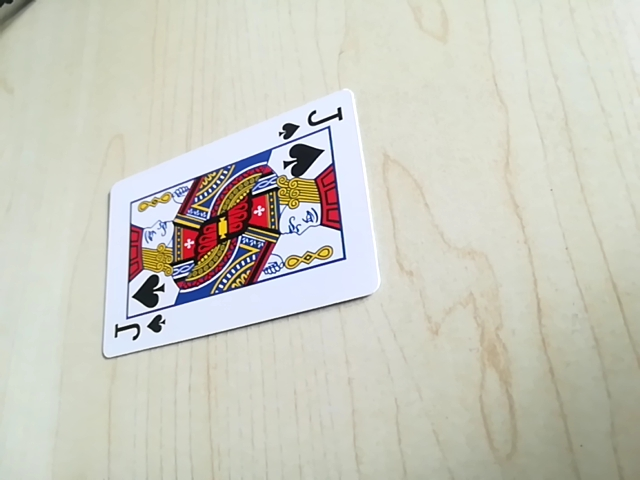ht j: (277, 104, 350, 142), (109, 309, 171, 349)
